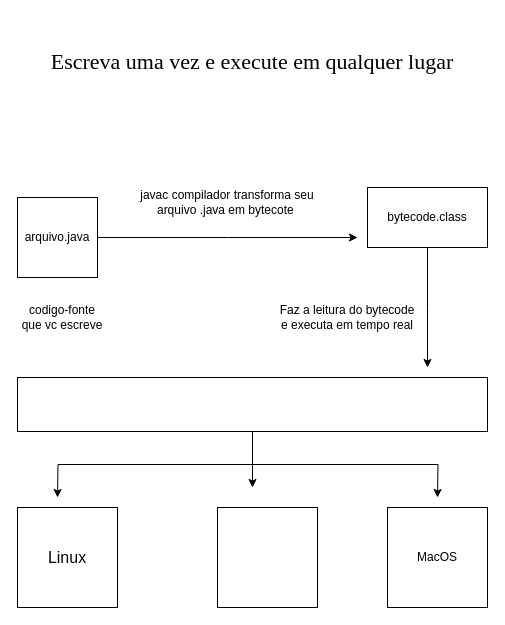
The diagram is 505 pixels wide and 625 high, and some of its shapes have lost their labels. Here are the shapes that lost their labels. From the top down, the centre of each, then its label:
At (252,404): "JVM - Java Virtual Machine".
At (267,557): "Windows".
